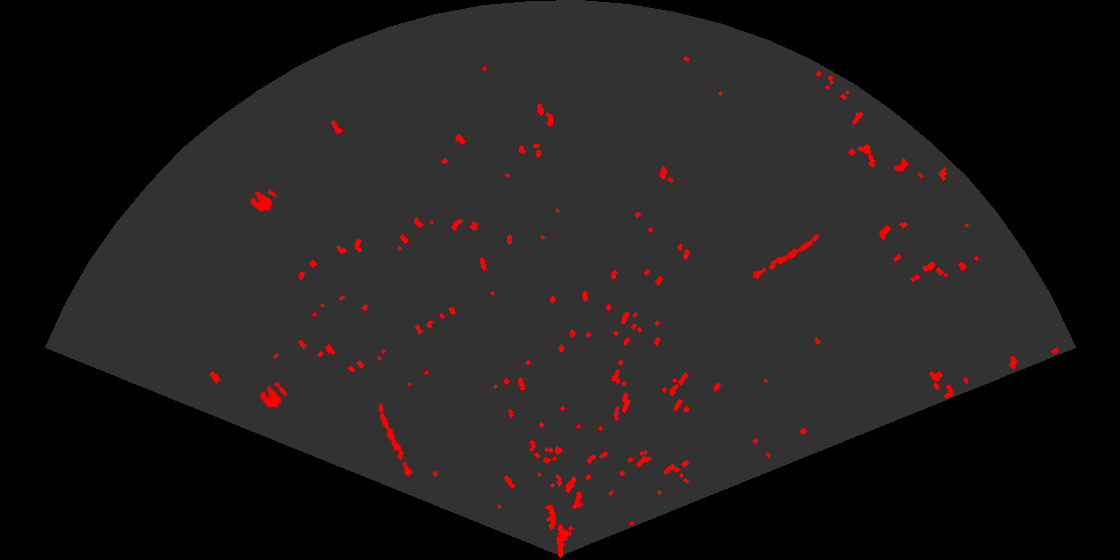ball: (258, 380, 289, 410), (248, 188, 278, 214)
chain: (748, 232, 821, 282), (377, 402, 415, 483)
